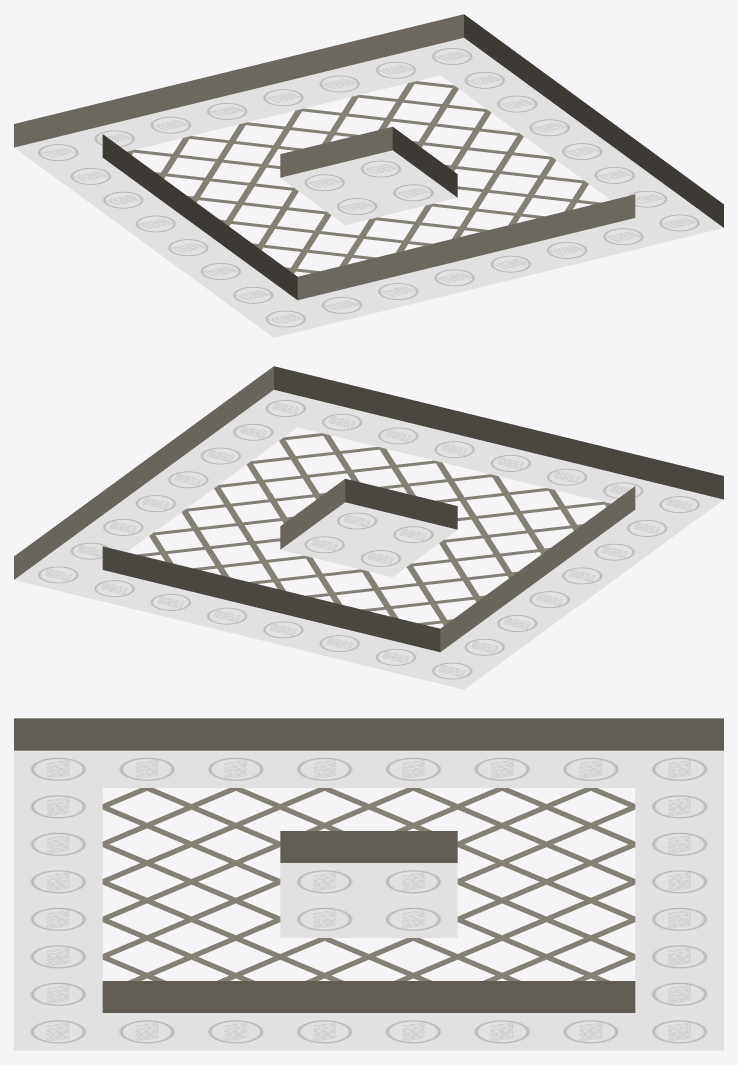
3 views of the same model, one above another, from view 1: azimuth 30°, elevation 25°; view 2: azimuth 150°, elevation 25°; view 3: azimuth 270°, elevation 25° (orthographic). The views are drawn at different scales.
Visible parts, largest first — view 1: 004_L_415100_PART_1; view 2: 004_L_415100_PART_1; view 3: 004_L_415100_PART_1.
Boxes of the visible parts, x1,y1,x2,y2 form: 004_L_415100_PART_1: (14,14,723,337); 004_L_415100_PART_1: (14,366,723,689); 004_L_415100_PART_1: (14,718,723,1050).
Bounding box in the file's own units: 6.4 × 0.32 × 6.4.
4 materials, 3 textured.
